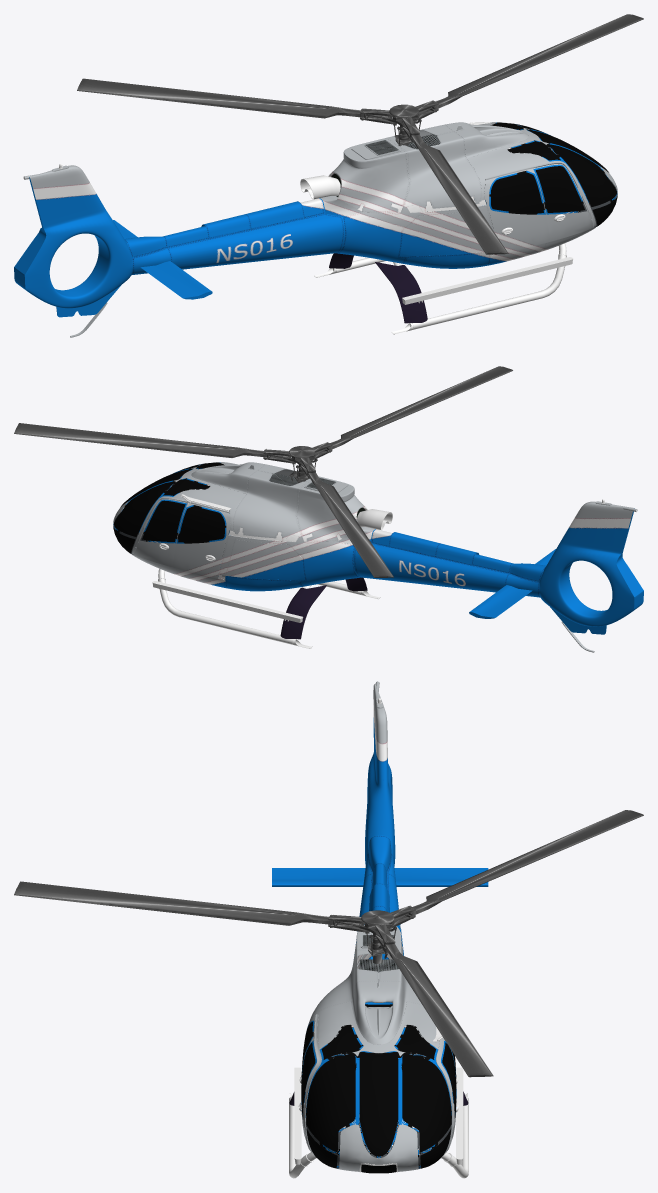
File: copter.fbx
3 renders of one model, top to bottom at view 1: azimuth 30°, elevation 25°; view 2: azimuth 150°, elevation 25°; view 3: azimuth 270°, elevation 25°, orthographic. The views are drawn at different scales.
Parts seen in each view (by area): view 1: helicopter.Shape_glass_0_10, helicopter.Shape_elise_0_11; view 2: helicopter.Shape_glass_0_10, helicopter.Shape_elise_0_11; view 3: helicopter.Shape_glass_0_10, helicopter.Shape_elise_0_11.
Boxes of the visible parts, x1,y1,x2,y2 form: helicopter.Shape_glass_0_10: (14,122,617,337); helicopter.Shape_elise_0_11: (77,14,643,254); helicopter.Shape_glass_0_10: (113,462,643,652); helicopter.Shape_elise_0_11: (14,366,512,577); helicopter.Shape_glass_0_10: (272,681,488,1178); helicopter.Shape_elise_0_11: (14,810,643,1077).
Size of the model in its own units: 44468 by 13645 by 32871.
